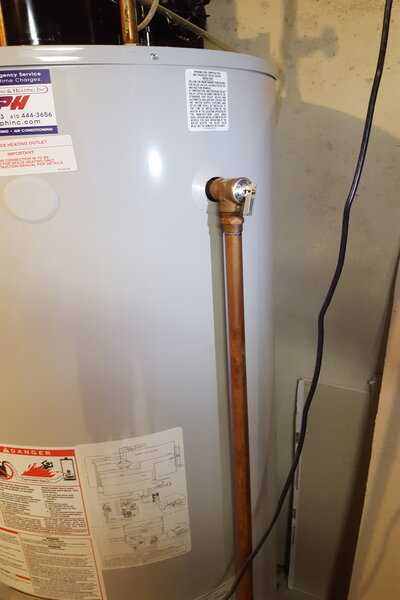valve: (205, 177, 262, 236)
